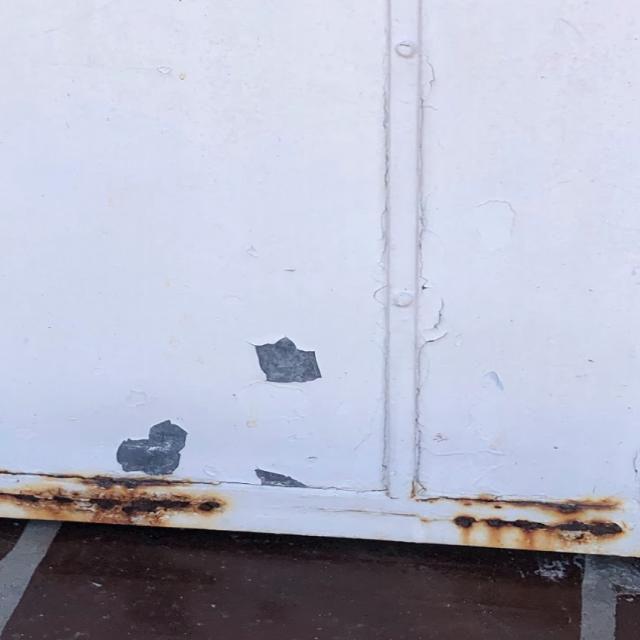Corrosion: (0, 471, 234, 528), (415, 490, 633, 548)
